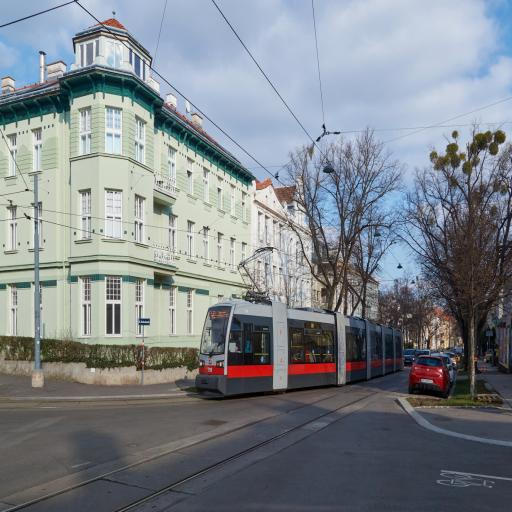ULF: (195, 298, 403, 394)
